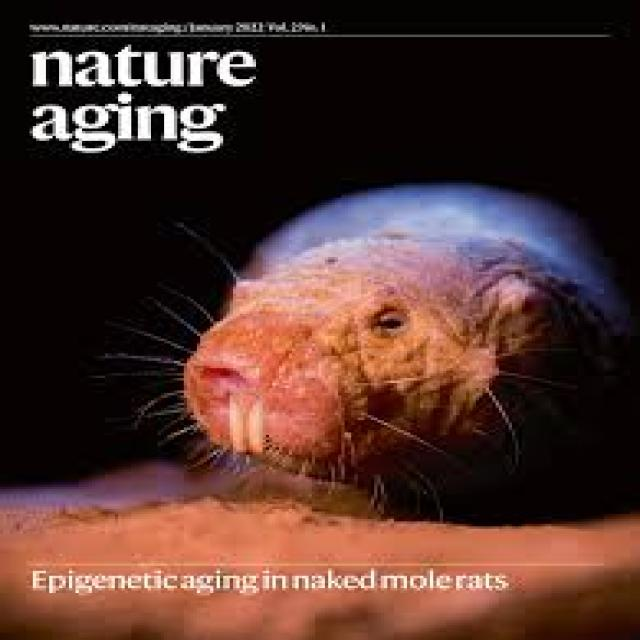rat: (95, 180, 637, 524)
